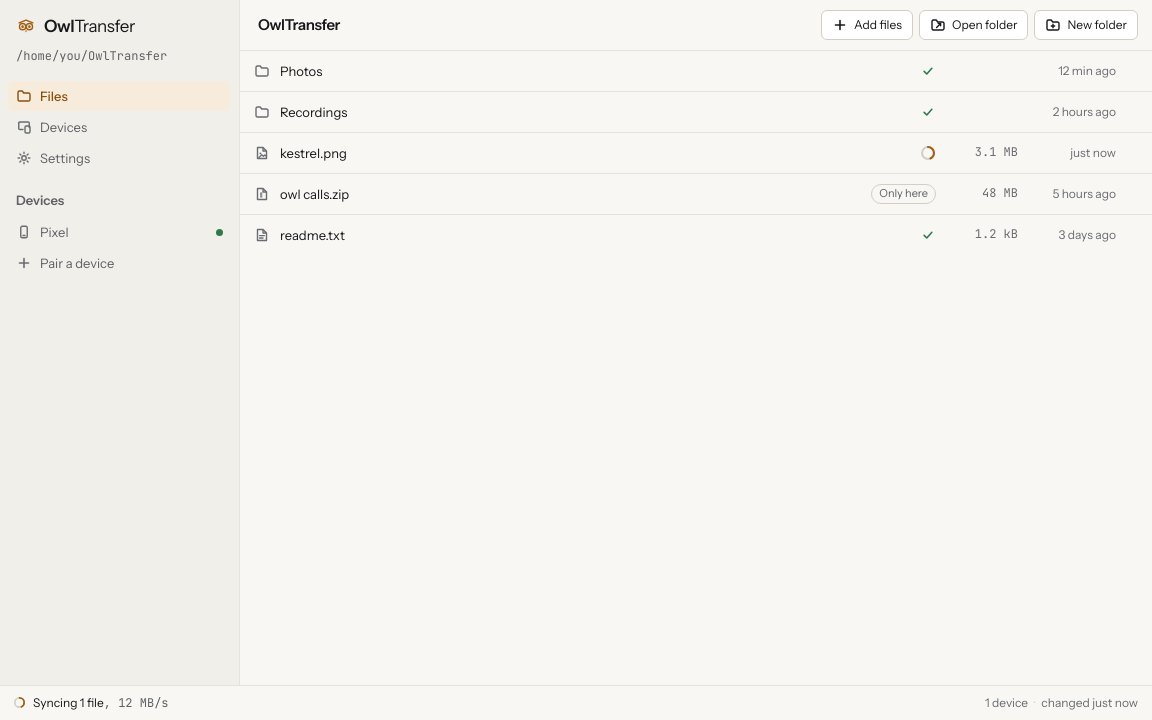
Scenario: the files pane › will not create a folder whose name a file cannot have
The image size is (1152, 720).
Check: the button "readme.txt 1.2 kB 3 days ago" is shown, box [240,215,1120,255]
Click the button "New folder".
click(1086, 25)  # box [1034,10,1138,40]
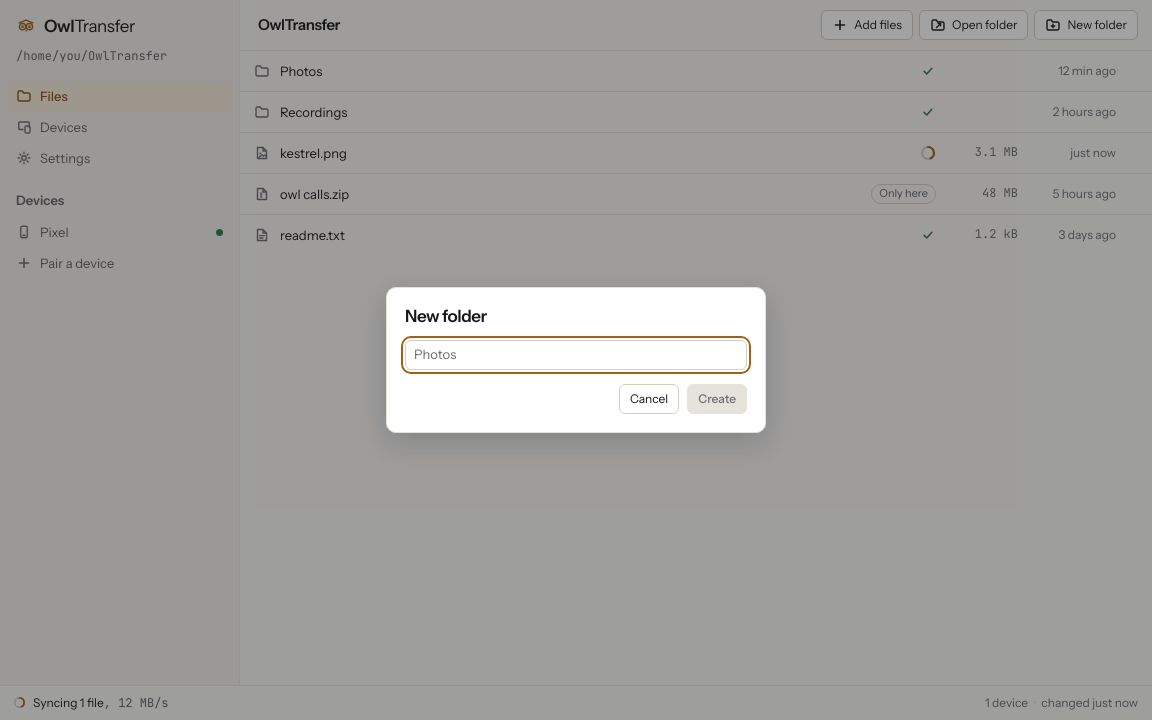
Check: the button "Create" is disabled, box [687,384,747,414]
Type "a/b" into the field named "Name".
click(576, 355); type("a/b")  # box [405,340,747,370]
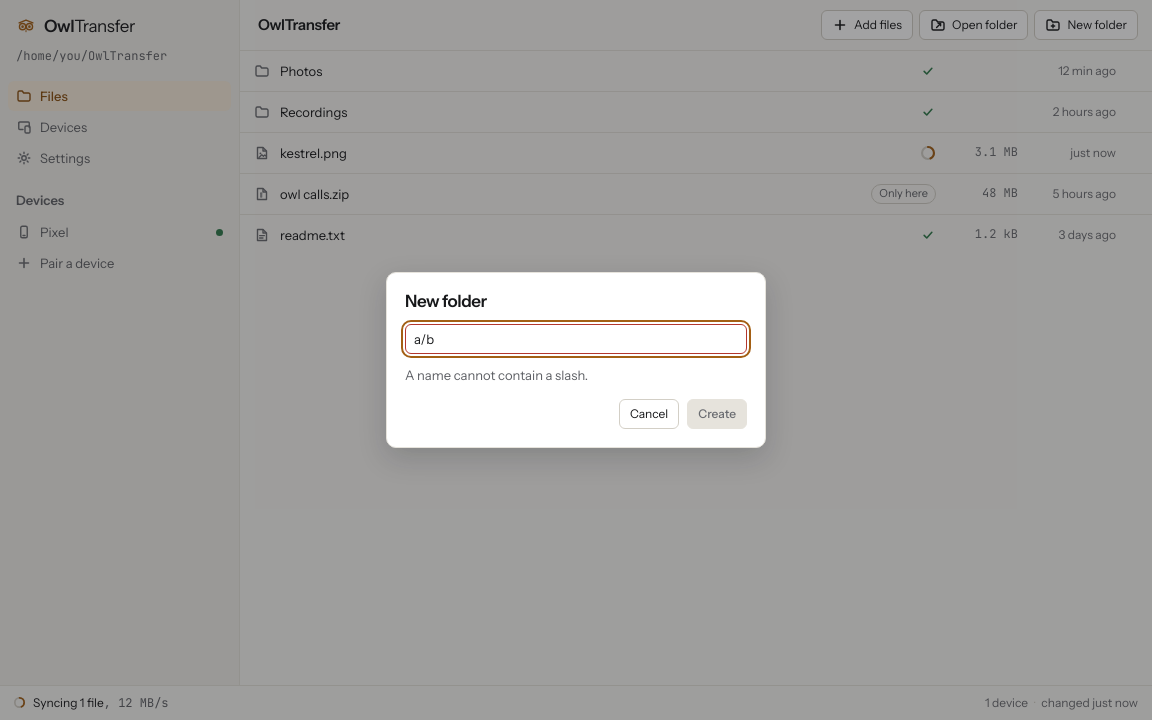
Check: the button "Create" is disabled, box [687,399,747,429]
Check: the text "A name cannot contain a slash." is shown, box [405,367,588,383]
